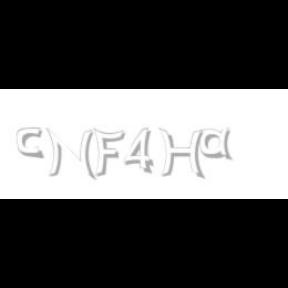4: (122, 128, 154, 174)
F: (93, 128, 125, 178)
H: (159, 128, 205, 180)
N: (46, 128, 94, 180)
a: (199, 128, 236, 160)
c: (16, 128, 46, 160)
